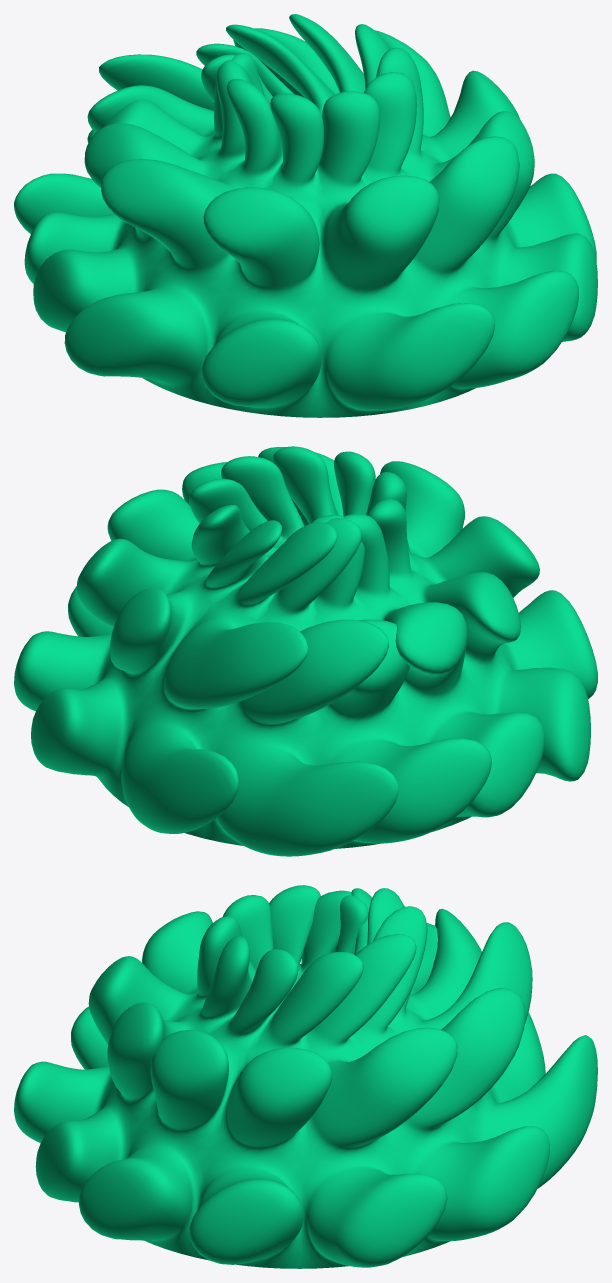
The model's file is flower2.fbx.
3 views of the same model, one above another, from view 1: azimuth 30°, elevation 25°; view 2: azimuth 150°, elevation 25°; view 3: azimuth 270°, elevation 25° (orthographic). The views are drawn at different scales.
Parts seen in each view (by area): view 1: organic_21_quads_:default1; view 2: organic_21_quads_:default1; view 3: organic_21_quads_:default1.
Part boxes in pixels (x1,y1,x2,y2): organic_21_quads_:default1: [14, 14, 597, 417]; organic_21_quads_:default1: [14, 446, 597, 856]; organic_21_quads_:default1: [14, 885, 597, 1268].
Bounding box in the file's own units: 259 × 135 × 268.
